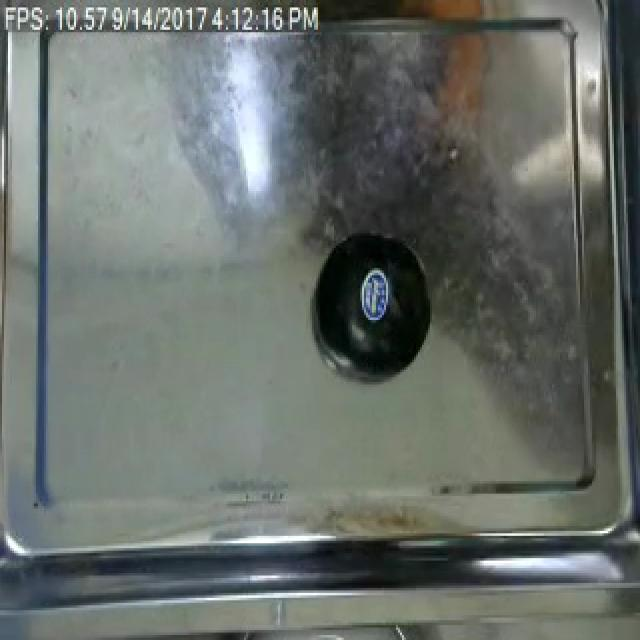Fruit: (350, 258, 402, 330)
